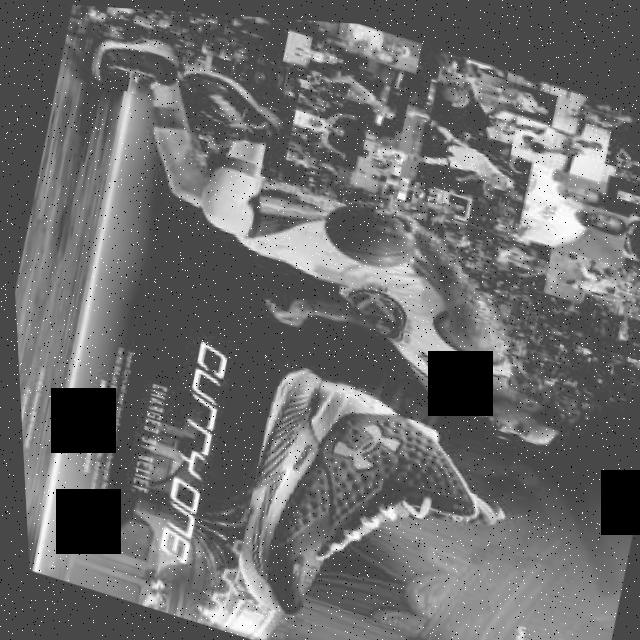shoe: (214, 352, 523, 640), (178, 64, 293, 152), (85, 18, 185, 104)
